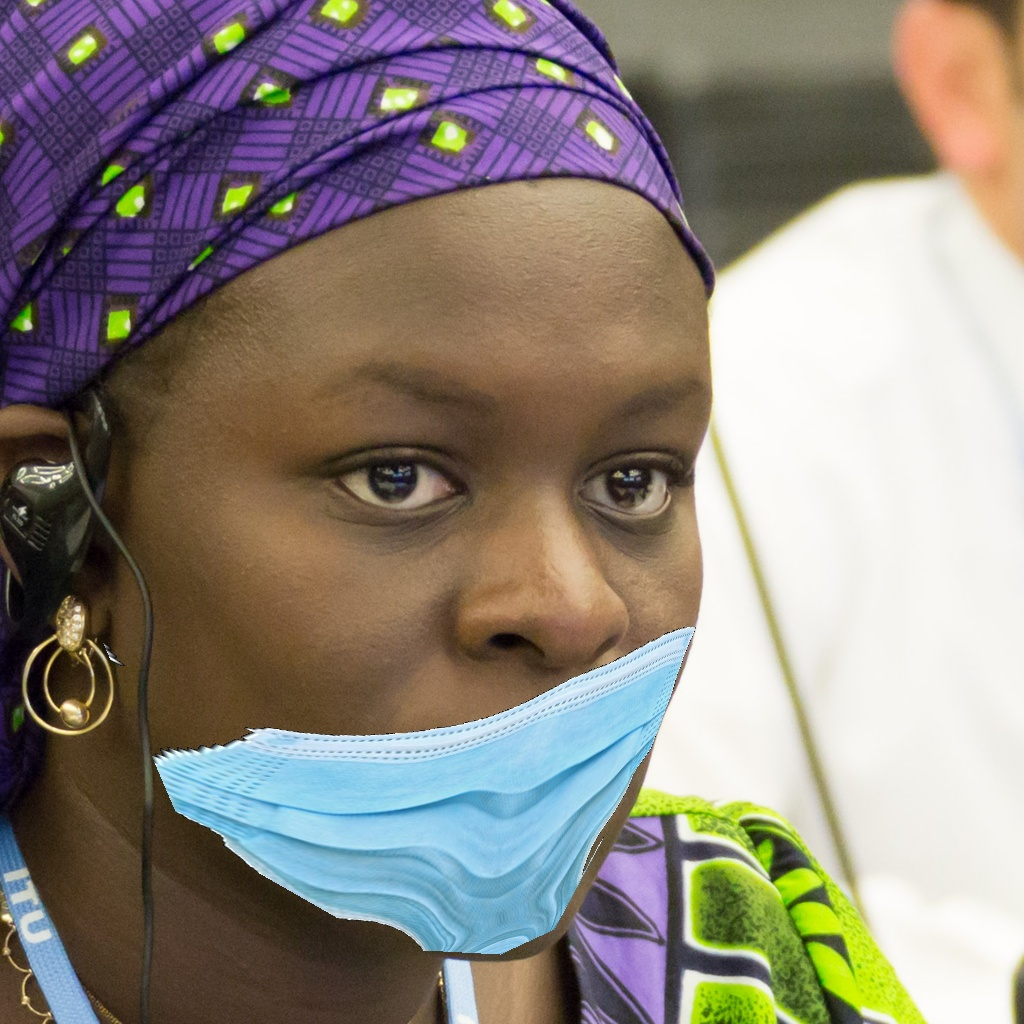mascarilla_mal_puesta: (137, 328, 704, 1024)
